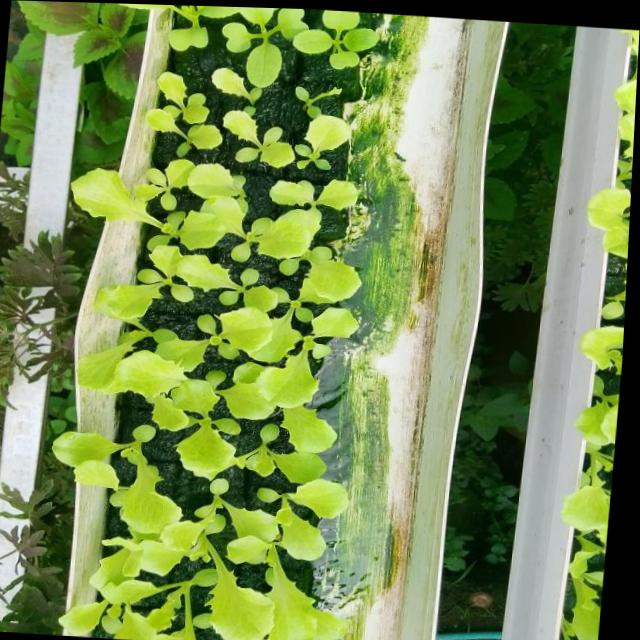Baby: (94, 170, 240, 285), (187, 514, 347, 615), (261, 402, 375, 518), (11, 537, 177, 616), (253, 194, 364, 303), (220, 257, 347, 351), (107, 5, 235, 89), (102, 69, 211, 161), (275, 87, 408, 160), (217, 365, 384, 419), (108, 238, 198, 326), (189, 6, 339, 58), (72, 314, 162, 395), (79, 462, 158, 554), (191, 240, 273, 326), (192, 57, 287, 128), (68, 404, 182, 459), (253, 324, 373, 374), (147, 482, 223, 541), (165, 429, 224, 494)
